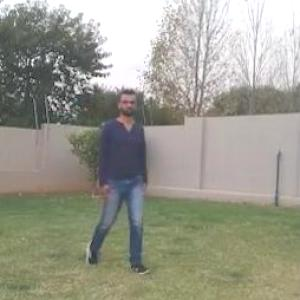follow: (108, 97, 146, 251)
